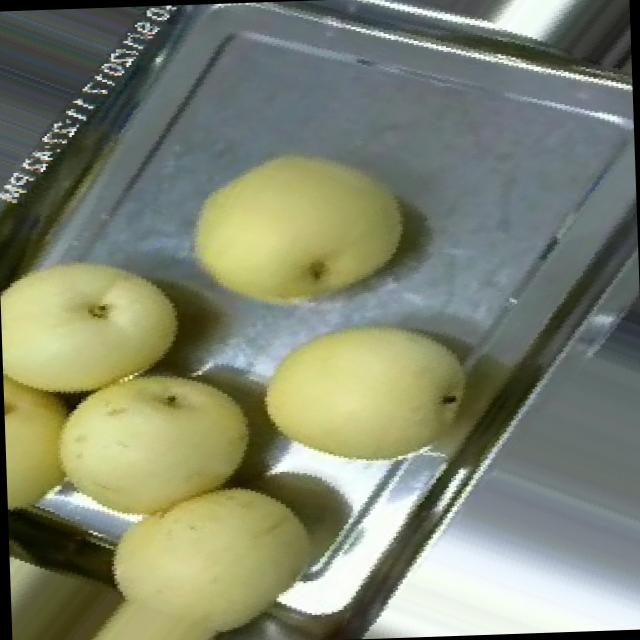Fruit: (3, 342, 268, 559), (22, 454, 330, 640), (167, 124, 424, 330), (243, 301, 487, 498), (0, 238, 196, 429)
